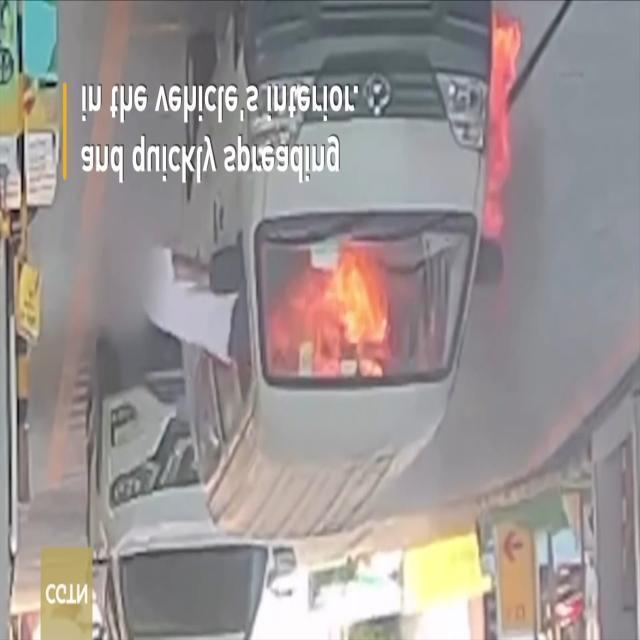fire: (268, 242, 396, 376), (481, 10, 523, 245)
